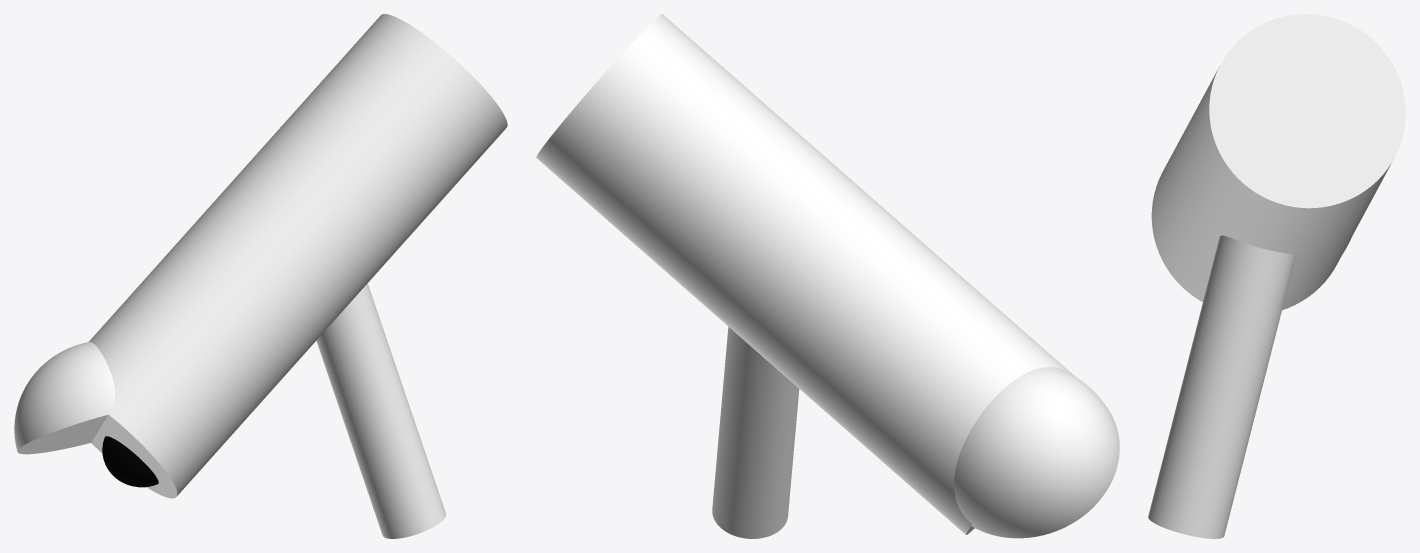
Rendered from cctv.glb.
3 views of the same model, side by side, from view 1: azimuth 30°, elevation 25°; view 2: azimuth 150°, elevation 25°; view 3: azimuth 270°, elevation 25° (orthographic). The views are drawn at different scales.
Visible parts, largest first — view 1: mesh_id47, mesh_id55, mesh_id81, mesh_id99; view 2: mesh_id47, mesh_id81, mesh_id55; view 3: mesh_id47, mesh_id55.
Part boxes in pixels (<box>): mesh_id47: <box>89,14,507,498</box>; mesh_id55: <box>316,283,446,538</box>; mesh_id81: <box>14,342,115,454</box>; mesh_id99: <box>102,436,158,487</box>; mesh_id47: <box>536,14,1074,534</box>; mesh_id81: <box>954,367,1119,538</box>; mesh_id55: <box>712,327,799,538</box>; mesh_id47: <box>1151,14,1405,310</box>; mesh_id55: <box>1148,235,1295,538</box>.
Size of the model in its own units: 0.3446 by 0.3213 by 0.1374.
Materials: 4 (4 with a texture image).
